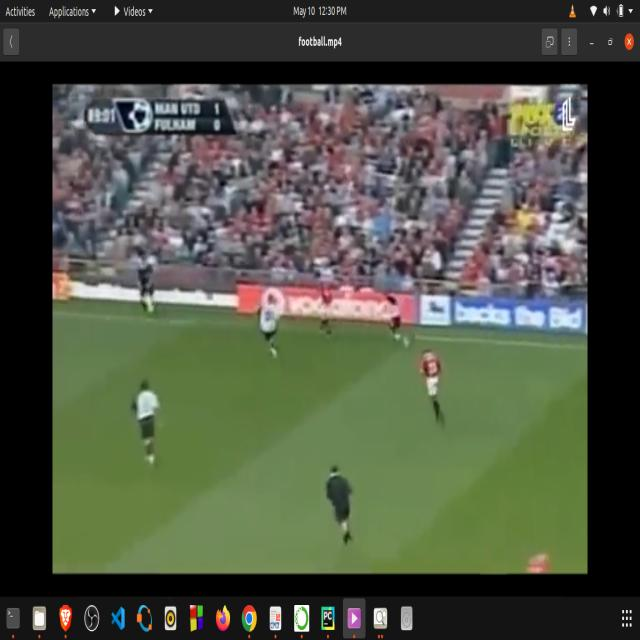Refree: (323, 456, 361, 556)
football-players: (132, 380, 168, 470), (418, 340, 452, 430), (256, 284, 286, 365), (382, 284, 412, 354), (320, 279, 340, 339)
